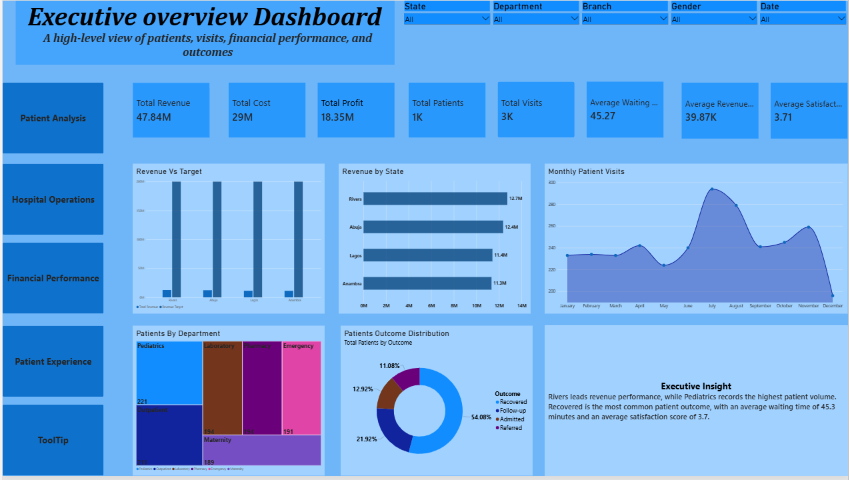

The dashboard page shown, as its layout file describes it:
{"tool":"powerbi","page":{"name":"Executive Overview","canvas":[3840,2160],"ordinal":0},"visuals":[{"type":"shape","box":[59.1,0,1721.7,290.7],"z":0},{"type":"cardVisual","fields":{"Data":["Date_Table.Total Revenue"]},"box":[590.5,372.5,349.8,249.8],"z":1000},{"type":"cardVisual","fields":{"Data":["Date_Table.Total Cost"]},"box":[1026.6,372.5,349.8,249.8],"z":2000},{"type":"cardVisual","fields":{"Data":["Date_Table.Total Profit"]},"box":[1430.9,372.5,349.8,249.8],"z":3000},{"type":"cardVisual","fields":{"Data":["Date_Table.Total Patients"]},"box":[1844.3,372.5,349.8,249.8],"z":4000},{"type":"cardVisual","fields":{"Data":["Date_Table.Total Visits"]},"box":[2248.6,368,349.8,254.4],"z":5000},{"type":"cardVisual","fields":{"Data":["Date_Table.Average Waiting Time"]},"box":[2652.9,368,349.8,254.4],"z":6000},{"type":"cardVisual","fields":{"Data":["Date_Table.Average Revenue Per Patient"]},"box":[3084.4,372.5,349.8,254.4],"z":7000},{"type":"cardVisual","fields":{"Data":["Date_Table.Average Satisfaction"]},"box":[3488.7,372.5,349.8,254.4],"z":8000},{"type":"lineChart","title":"Monthly Patient Visits","fields":{"Category":["Date_Table.Month"],"Y":["Date_Table.Total Visits"]},"box":[2462.1,740.4,1376.4,681.4],"z":9000},{"type":"clusteredBarChart","fields":{"Category":["Patient_Visits.State"],"Y":["Date_Table.Total Revenue"]},"box":[1526.3,740.4,872.2,681.4],"z":10000},{"type":"treemap","title":"Patients By Department","fields":{"Group":["Patient_Visits.Department"],"Values":["Date_Table.Total Patients"]},"box":[590.5,1476.3,872.2,681.4],"z":11000},{"type":"clusteredColumnChart","title":"Revenue Vs Target","fields":{"Category":["Patient_Visits.State"],"Y":["Date_Table.Total Revenue","Date_Table.Revenue Target"]},"box":[590.5,740.4,872.2,681.4],"z":12000},{"type":"donutChart","title":"Patients Outcome Distribution","fields":{"Category":["Patient_Visits.Outcome"],"Y":["Date_Table.Total Patients"]},"box":[1535.4,1476.3,872.2,681.4],"z":13000},{"type":"slicer","fields":{"Values":["Patient_Visits.State"]},"box":[1817,0,404.3,145.4],"z":14000},{"type":"slicer","fields":{"Values":["Patient_Visits.Department"]},"box":[2221.3,0,404.3,145.4],"z":15000},{"type":"slicer","fields":{"Values":["Patient_Visits.Branch"]},"box":[2625.6,0,404.3,145.4],"z":16000},{"type":"slicer","fields":{"Values":["Patient_Visits.Gender"]},"box":[3029.9,0,404.3,145.4],"z":17000},{"type":"slicer","fields":{"Values":["Date_Table.Date"]},"box":[3434.2,0,404.3,145.4],"z":18000},{"type":"textbox","box":[113.6,0,1635.3,290.7],"z":19000},{"type":"cardVisual","fields":{"Data":["Date_Table.Executive Insight"]},"box":[2462.1,1476.3,1376.4,681.4],"z":20000},{"type":"actionButton","box":[0,372.5,458.8,322.5],"z":20001},{"type":"actionButton","box":[0,740.4,458.8,322.5],"z":20002},{"type":"actionButton","box":[0,1099.3,458.8,322.5],"z":20003},{"type":"actionButton","box":[0,1476.3,458.8,322.5],"z":20004},{"type":"actionButton","box":[0,1835.2,458.8,322.5],"z":20005}]}

Visuals, with their boxes in screenshot pixels (x1, y1, x2, y2), scaled from the page's 3840x2160 canvas onto the 849x480 screenshot:
shape: detection(13, 0, 394, 65)
cardVisual - Date_Table.Total Revenue: detection(131, 83, 208, 138)
cardVisual - Date_Table.Total Cost: detection(227, 83, 304, 138)
cardVisual - Date_Table.Total Profit: detection(316, 83, 394, 138)
cardVisual - Date_Table.Total Patients: detection(408, 83, 485, 138)
cardVisual - Date_Table.Total Visits: detection(497, 82, 574, 138)
cardVisual - Date_Table.Average Waiting Time: detection(587, 82, 664, 138)
cardVisual - Date_Table.Average Revenue Per Patient: detection(682, 83, 759, 139)
cardVisual - Date_Table.Average Satisfaction: detection(771, 83, 848, 139)
"Monthly Patient Visits" lineChart: detection(544, 165, 848, 316)
clusteredBarChart - Patient_Visits.State x Date_Table.Total Revenue: detection(337, 165, 530, 316)
"Patients By Department" treemap: detection(131, 328, 323, 479)
"Revenue Vs Target" clusteredColumnChart: detection(131, 165, 323, 316)
"Patients Outcome Distribution" donutChart: detection(339, 328, 532, 479)
slicer - Patient_Visits.State: detection(402, 0, 491, 32)
slicer - Patient_Visits.Department: detection(491, 0, 581, 32)
slicer - Patient_Visits.Branch: detection(581, 0, 670, 32)
slicer - Patient_Visits.Gender: detection(670, 0, 759, 32)
slicer - Date_Table.Date: detection(759, 0, 848, 32)
textbox: detection(25, 0, 387, 65)
cardVisual - Date_Table.Executive Insight: detection(544, 328, 848, 479)
actionButton: detection(0, 83, 101, 154)
actionButton: detection(0, 165, 101, 236)
actionButton: detection(0, 244, 101, 316)
actionButton: detection(0, 328, 101, 400)
actionButton: detection(0, 408, 101, 479)
